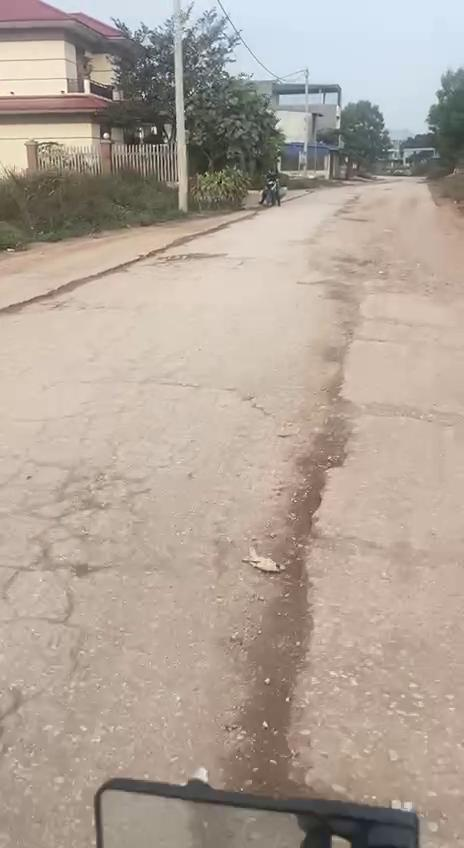pothole: (232, 400, 365, 798)
